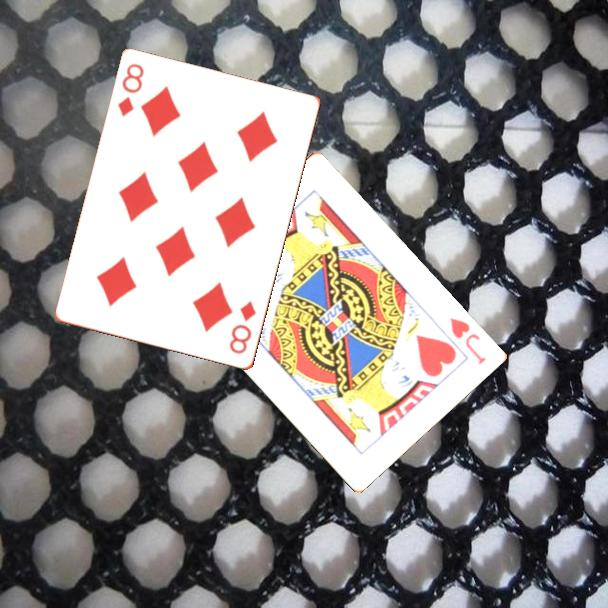d08: (226, 298, 259, 357), (115, 60, 147, 120)
h11: (446, 314, 489, 367)
